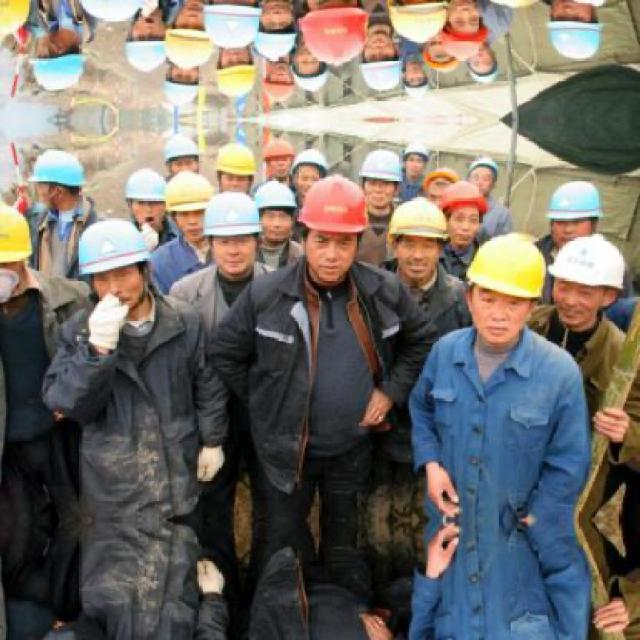helmet: (466, 234, 556, 337), (544, 226, 628, 328), (77, 211, 155, 306), (310, 178, 376, 277), (386, 197, 454, 280), (202, 191, 262, 272), (544, 175, 604, 248), (309, 0, 377, 60), (545, 0, 606, 63), (32, 145, 88, 209), (32, 28, 88, 92), (162, 0, 212, 71), (163, 168, 212, 240), (440, 180, 491, 246), (357, 24, 403, 94), (357, 144, 403, 213), (252, 174, 297, 243), (440, 0, 493, 58), (252, 0, 298, 65), (123, 163, 168, 229), (123, 10, 168, 76), (384, 0, 454, 42), (202, 0, 263, 48), (1, 200, 34, 288), (214, 140, 258, 192), (214, 45, 258, 97), (77, 0, 157, 28), (160, 131, 205, 180), (160, 57, 205, 106), (291, 144, 329, 190), (291, 46, 329, 92), (258, 57, 294, 105), (258, 134, 294, 181), (465, 152, 503, 192), (465, 44, 503, 84), (403, 137, 432, 183), (403, 54, 432, 100), (2, 0, 36, 38)
